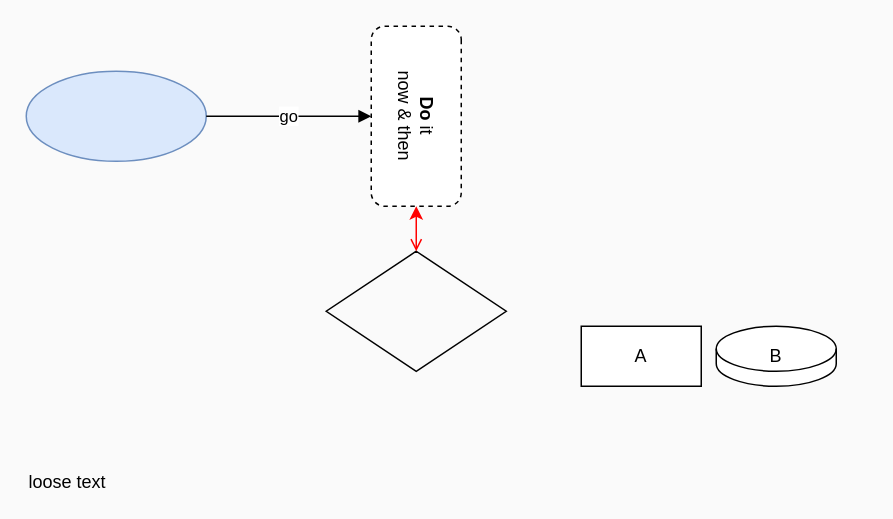
The diagram is 893 pixels wide and 519 high, and some of its shapes have lost their labels. Each missing label, with the centre of its shape:
"ok?" goes at pixel 415 310.
"Start" goes at pixel 115 115.
